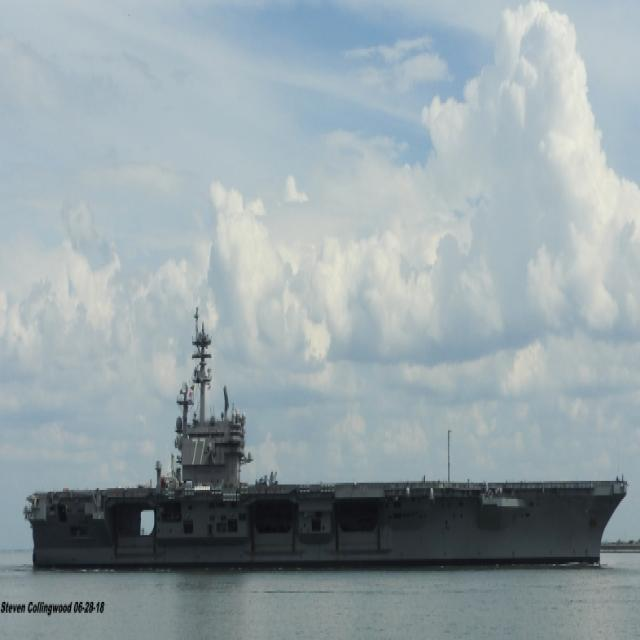Portanaves: (23, 298, 632, 583)
